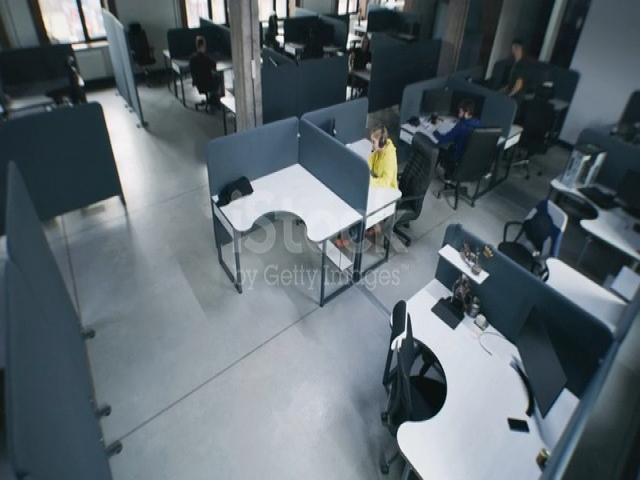empty chair: (489, 168, 578, 302), (380, 279, 434, 433), (51, 56, 122, 131), (129, 11, 167, 86), (536, 69, 558, 150), (620, 108, 640, 161)
occupiedchair: (360, 121, 433, 244), (172, 30, 244, 126), (449, 87, 497, 189), (339, 16, 379, 97)
